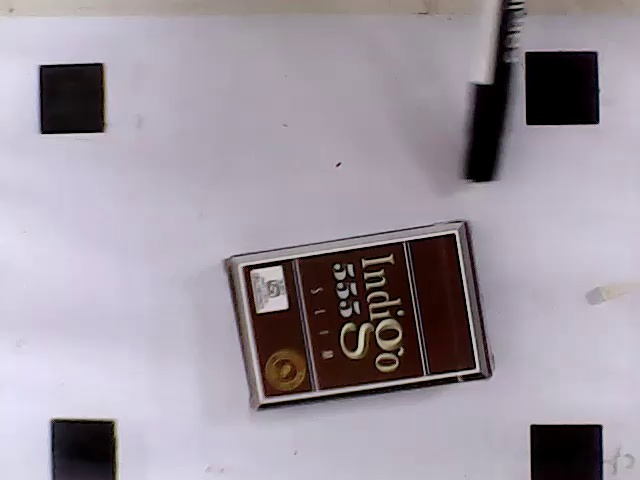BEX: (241, 230, 478, 401)
